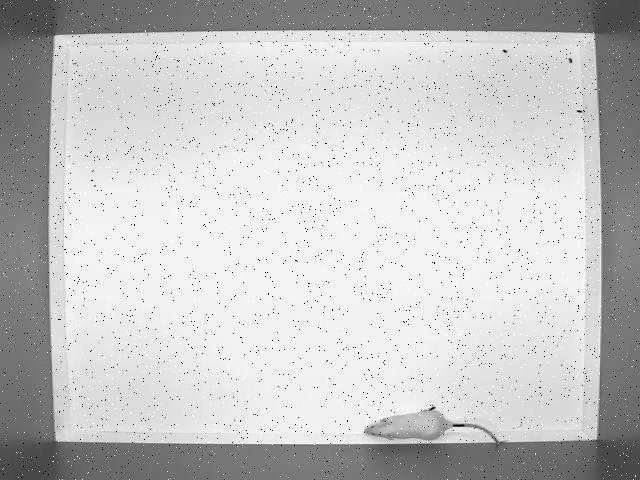Tikus: (362, 402, 502, 452)
